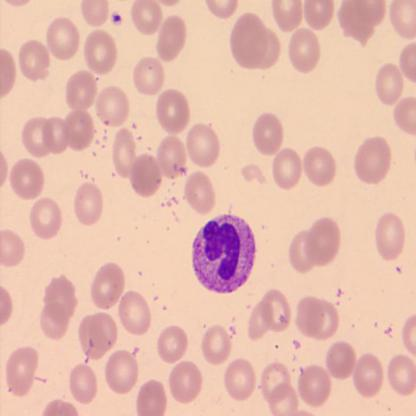Segmented neutrophil: (189, 209, 257, 295)
